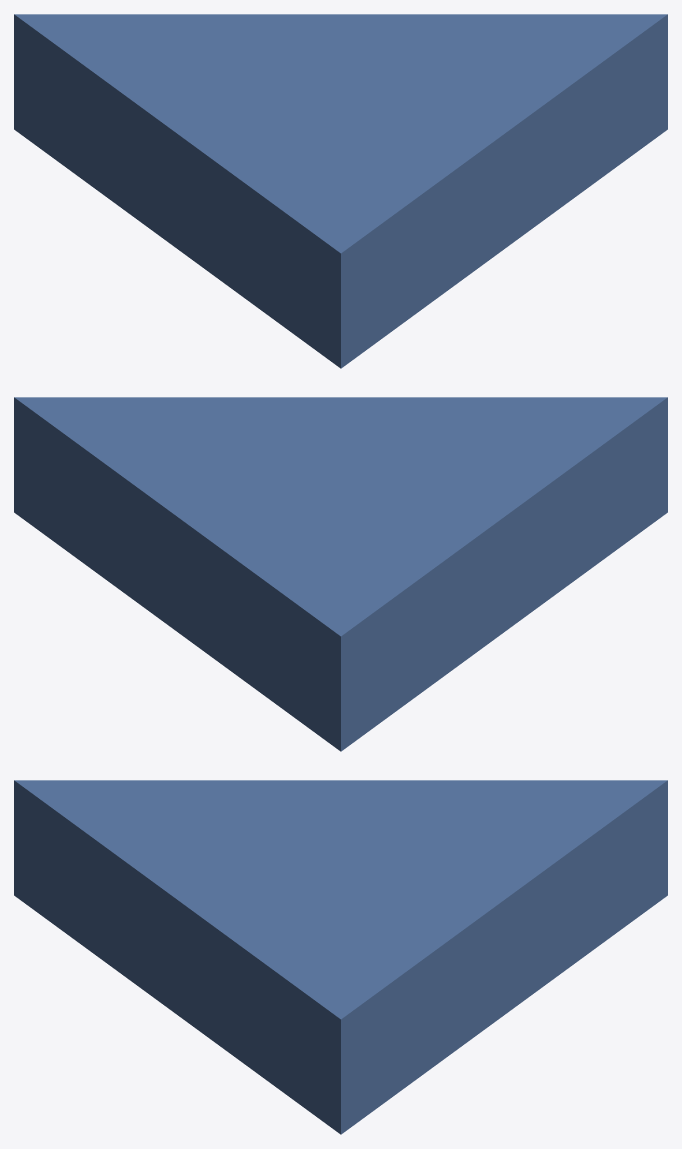
Rendered from tri_1.glb.
The picture shows the model from 3 angles, top to bottom: view 1: azimuth 30°, elevation 25°; view 2: azimuth 150°, elevation 25°; view 3: azimuth 270°, elevation 25°; orthographic projection.
Visible parts, largest first — view 1: tri_1; view 2: tri_1; view 3: tri_1.
Boxes of the visible parts, x1,y1,x2,y2 form: tri_1: [14, 14, 667, 368]; tri_1: [14, 397, 667, 751]; tri_1: [14, 780, 667, 1134].
Size of the model in its own units: 0.7423 by 0.1667 by 0.8571.
